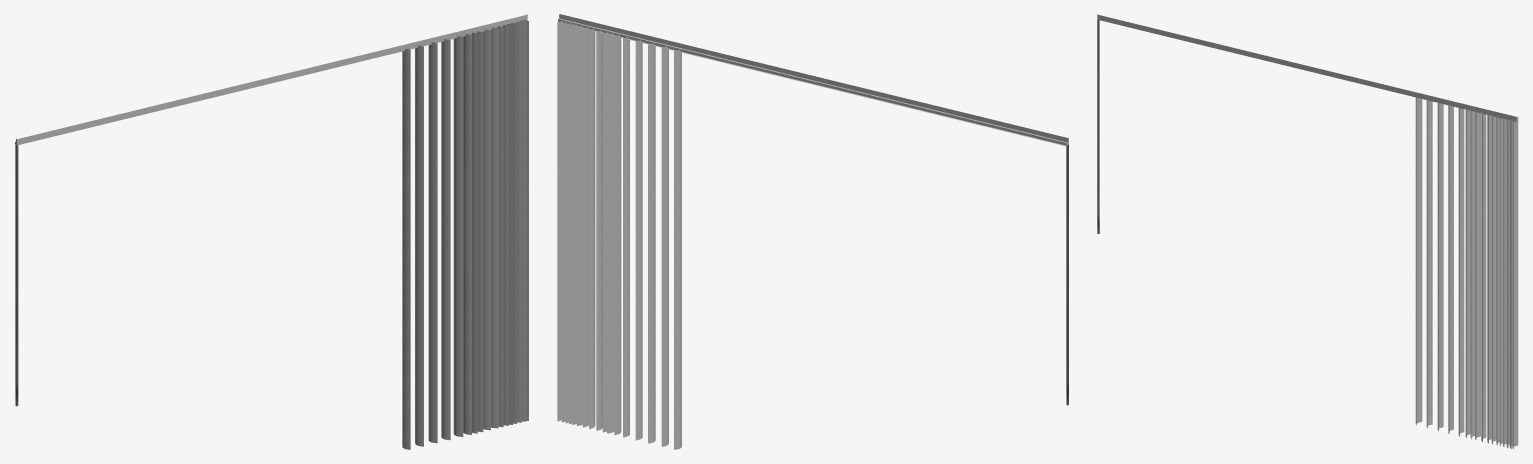
The model's file is Office_Blinds_A.fbx.
The picture shows the model from 3 angles, left to right: view 1: azimuth 30°, elevation 25°; view 2: azimuth 150°, elevation 25°; view 3: azimuth 330°, elevation 25°; orthographic projection. The views are drawn at different scales.
Parts seen in each view (by area): view 1: Office_Blinds_A; view 2: Office_Blinds_A; view 3: Office_Blinds_A.
Boxes of the visible parts, <box> form: Office_Blinds_A: <box>14,14,528,449</box>; Office_Blinds_A: <box>557,14,1068,449</box>; Office_Blinds_A: <box>1097,14,1518,449</box>.
Bounding box in the file's own units: 344 × 260 × 8.4.
